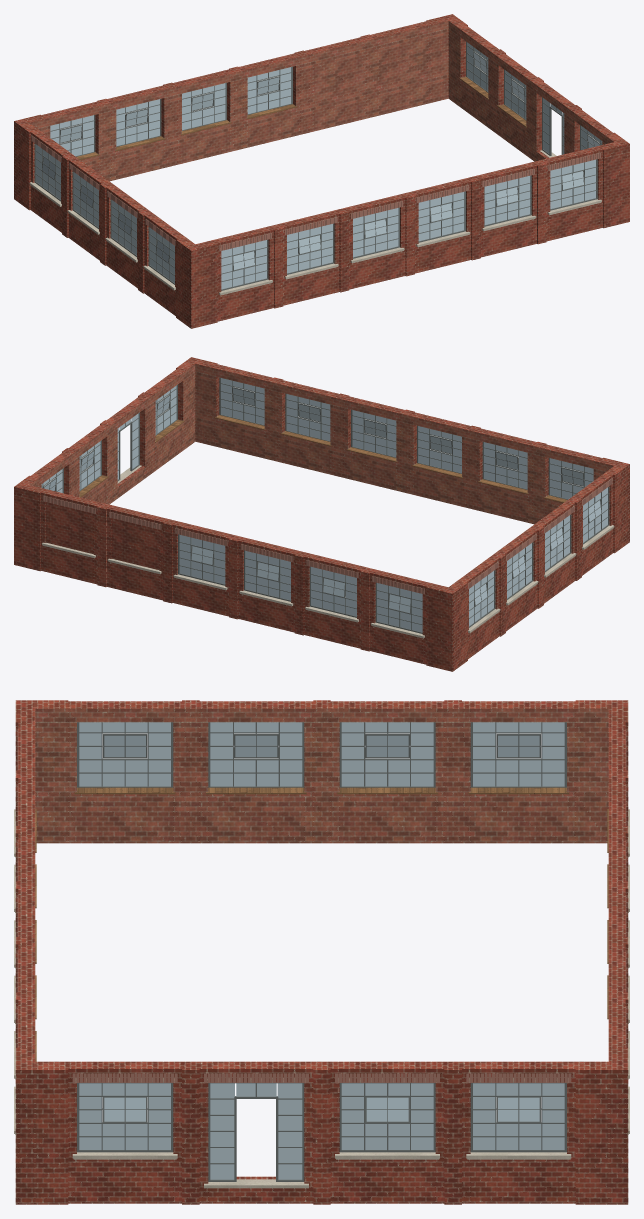
Rendered from envelope_storey.glb.
3 renders of one model, top to bottom at view 1: azimuth 30°, elevation 25°; view 2: azimuth 150°, elevation 25°; view 3: azimuth 270°, elevation 25°, orthographic. The views are drawn at different scales.
Parts seen in each view (by area): view 1: envelope_storey_brick, envelope_storey_brick_i, envelope_storey_glass, envelope_storey_win_k, envelope_storey_brick_d, envelope_storey_stone, envelope_storey_timber; view 2: envelope_storey_brick, envelope_storey_brick_i, envelope_storey_glass, envelope_storey_win_k, envelope_storey_brick_d, envelope_storey_stone, envelope_storey_timber; view 3: envelope_storey_brick, envelope_storey_brick_i, envelope_storey_glass, envelope_storey_win_k, envelope_storey_brick_d, envelope_storey_stone, envelope_storey_timber.
Boxes of the visible parts, <box> form: envelope_storey_brick: <box>14,14,629,328</box>; envelope_storey_brick_i: <box>21,18,622,246</box>; envelope_storey_glass: <box>36,42,602,289</box>; envelope_storey_win_k: <box>34,41,602,290</box>; envelope_storey_brick_d: <box>31,135,600,251</box>; envelope_storey_stone: <box>29,150,601,295</box>; envelope_storey_timber: <box>76,76,526,159</box>; envelope_storey_brick: <box>14,357,629,671</box>; envelope_storey_brick_i: <box>21,361,622,589</box>; envelope_storey_glass: <box>41,378,607,632</box>; envelope_storey_win_k: <box>41,377,609,633</box>; envelope_storey_brick_d: <box>43,478,612,594</box>; envelope_storey_stone: <box>42,465,614,638</box>; envelope_storey_timber: <box>79,415,567,502</box>; envelope_storey_brick: <box>15,700,628,1204</box>; envelope_storey_brick_i: <box>34,700,609,1204</box>; envelope_storey_glass: <box>79,722,564,1179</box>; envelope_storey_win_k: <box>77,722,566,1181</box>; envelope_storey_brick_d: <box>17,729,626,1082</box>; envelope_storey_stone: <box>14,809,629,1188</box>; envelope_storey_timber: <box>35,787,608,1061</box>.
Size of the model in its own units: 20.08 by 3.4 by 14.08.
Materials: 8 (4 with a texture image).
